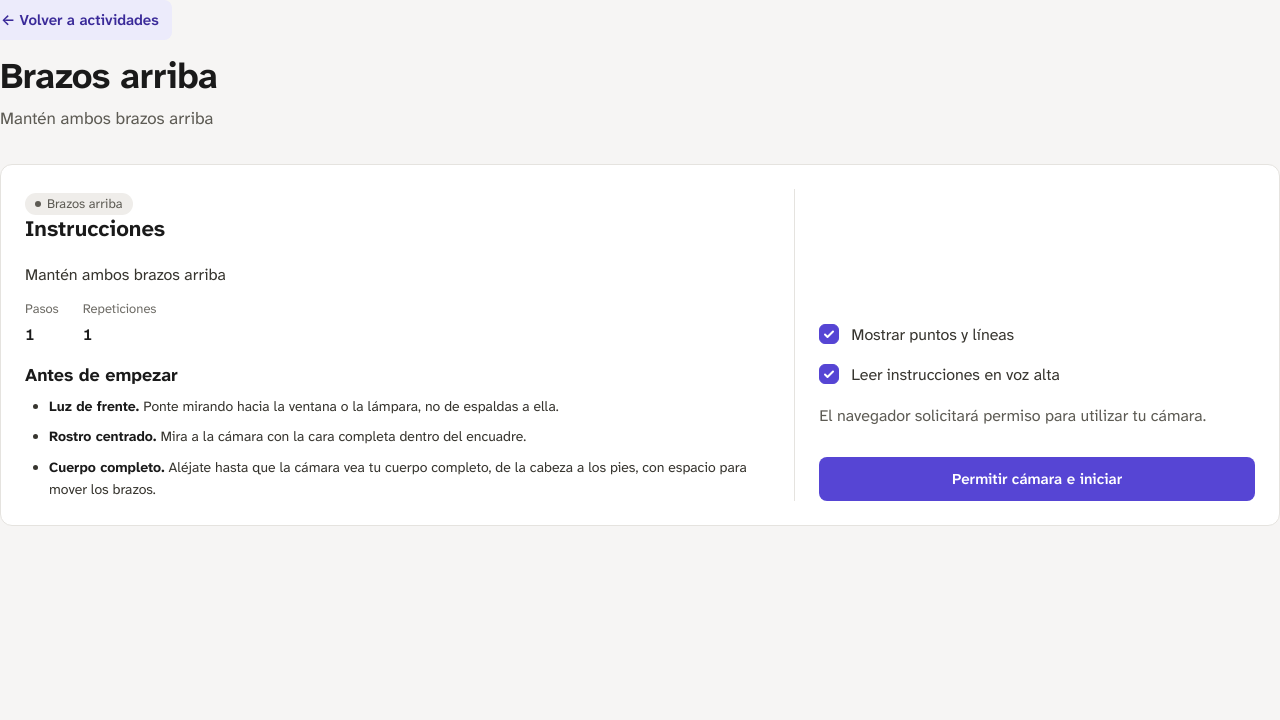
Test: cámara y ciclo de actividad › cancela la sesión al recibir NotAllowedError
This screenshot has width=1280, height=720.
Click the button "Permitir cámara e iniciar": (1037, 479) x1=819 y1=457 x2=1255 y2=501
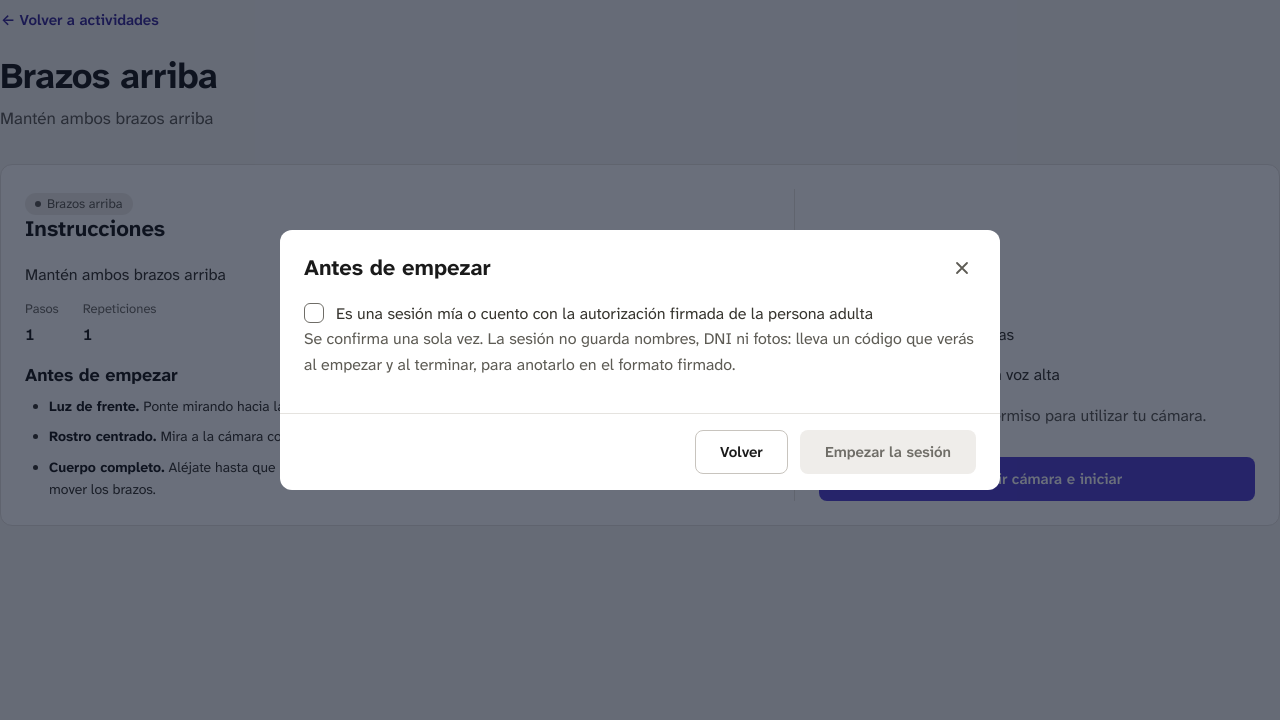
Click the checkbox labelled "Es una sesión mía": (314, 313) x1=304 y1=303 x2=324 y2=323
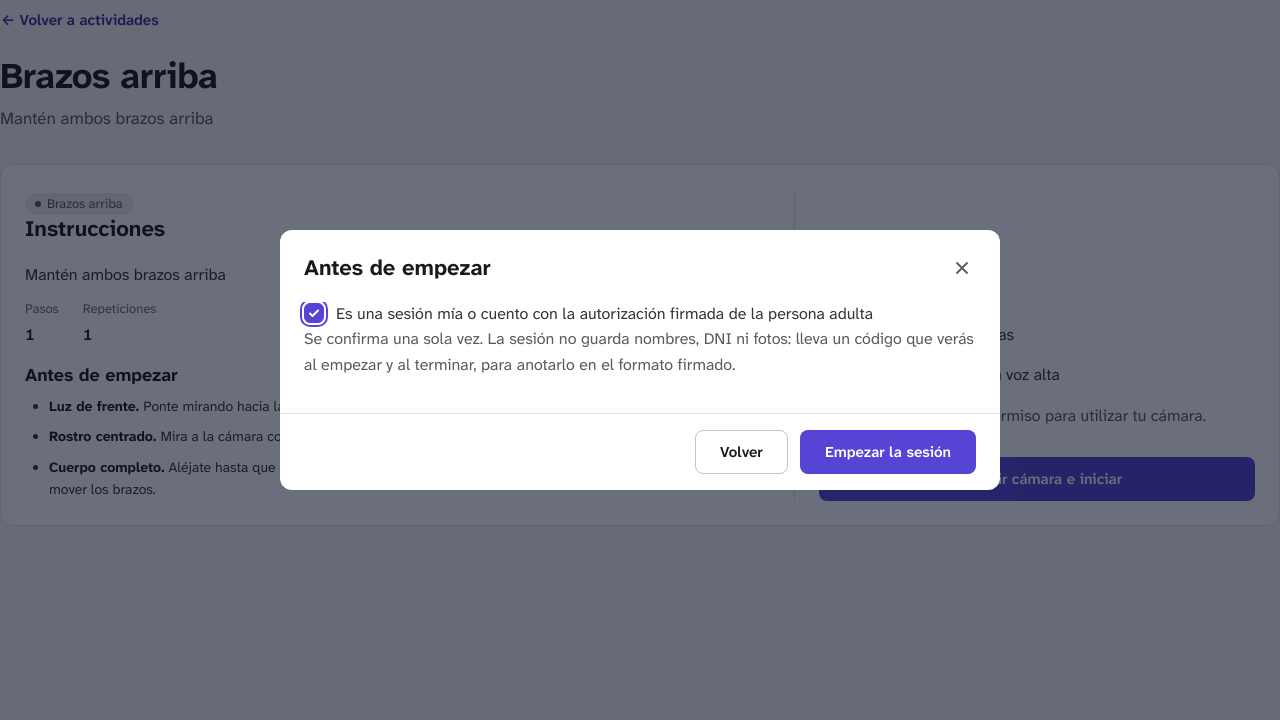
Click the button "Empezar la sesión": (888, 452) x1=800 y1=430 x2=976 y2=474
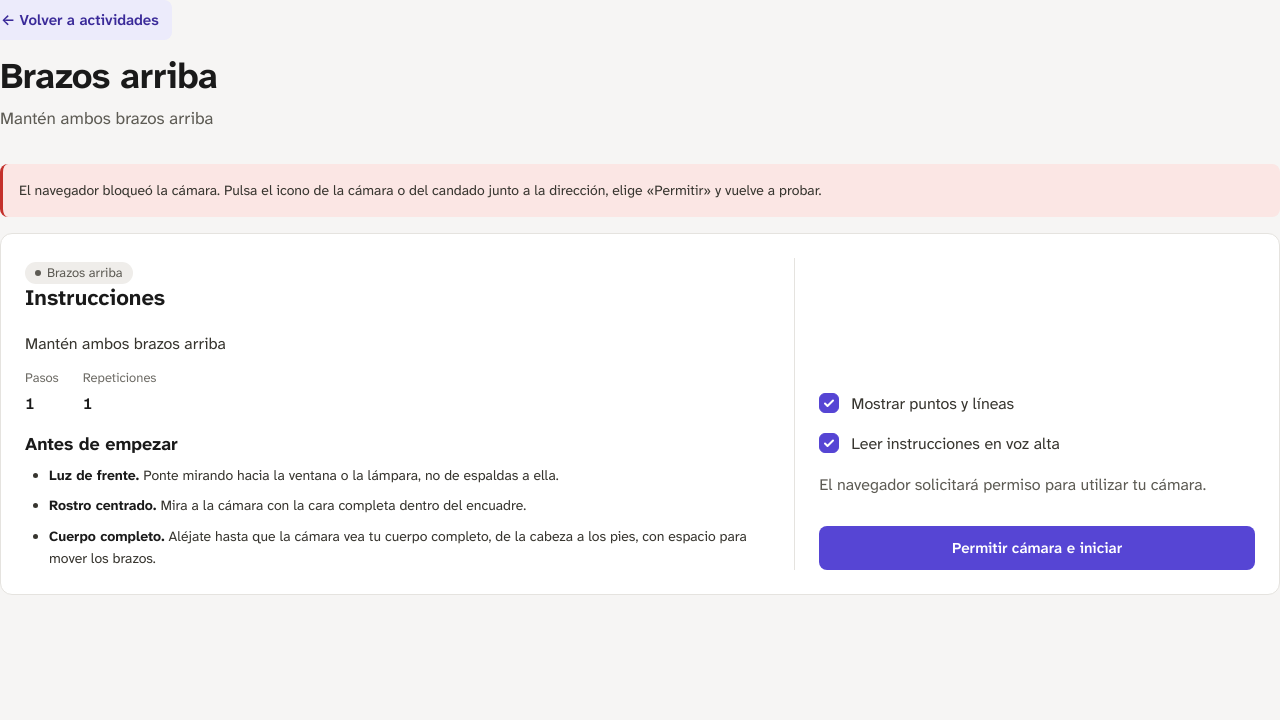
Now the message shows "cámara", box x1=19 y1=181 x2=822 y2=199
